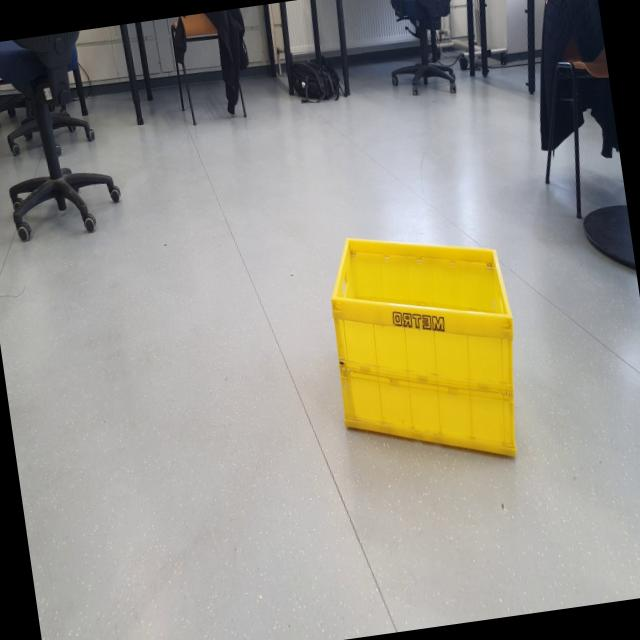box: (297, 212, 542, 489)
